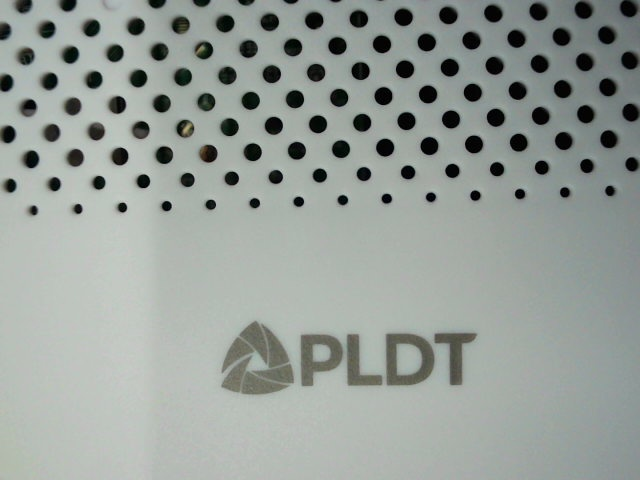BH_PLDT: (203, 310, 487, 413)
